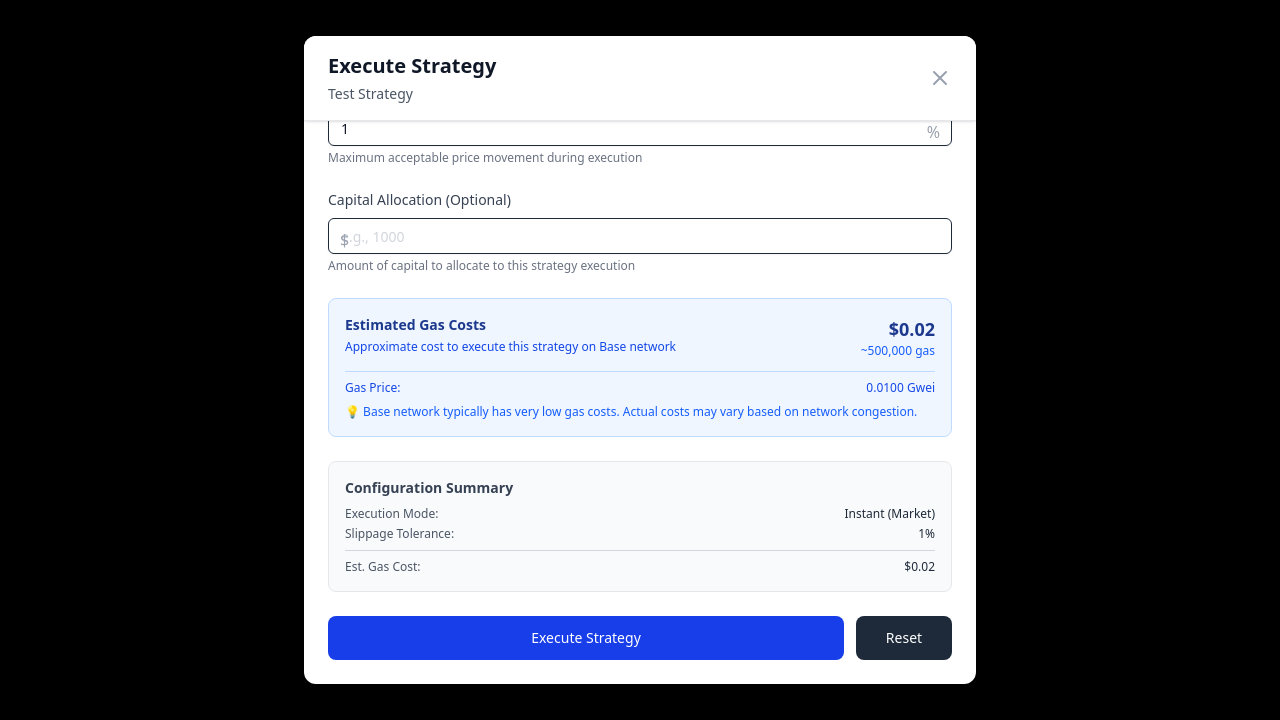
Test: StrategyExecutionModal › Status Updates › displays pending status after execution starts
(page scrolled)
What coordinates should you click on to do the following:
click the button "Execute Strategy"
I would click on:
 (586, 638)
Its box is [328,616,844,660].
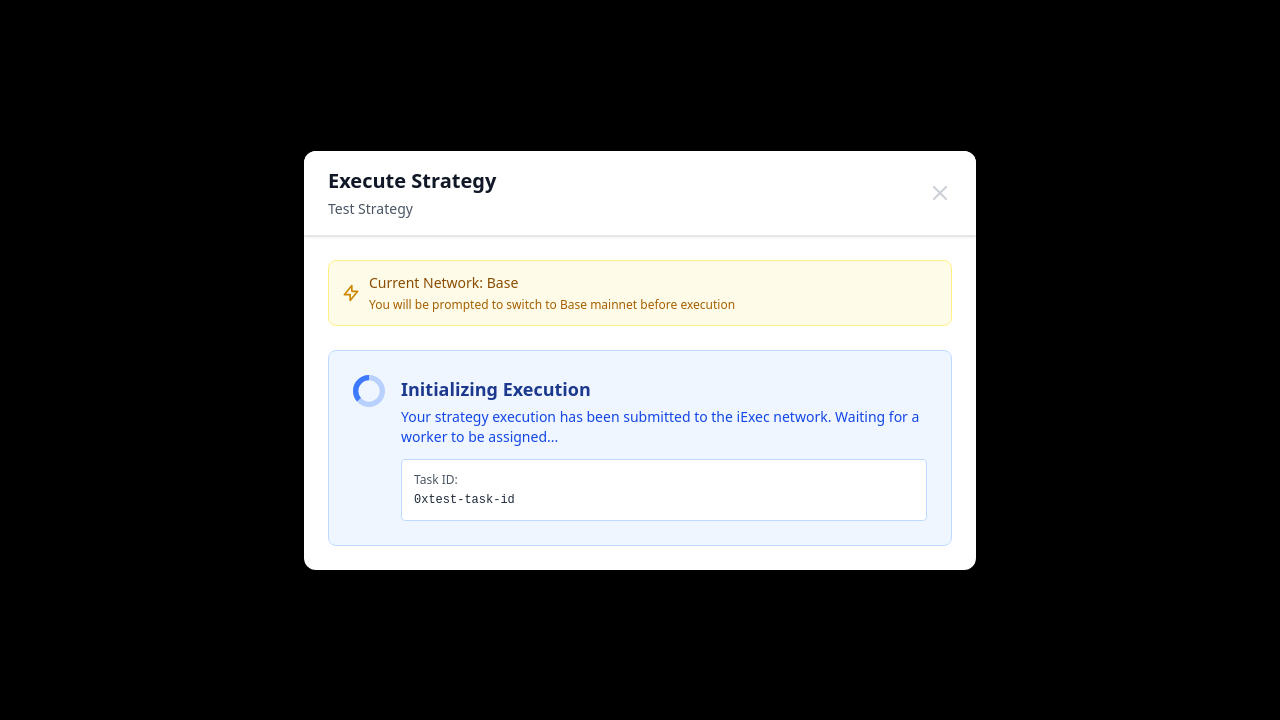
Expected: the heading "Initializing Execution" is shown, [401,376,591,400]
